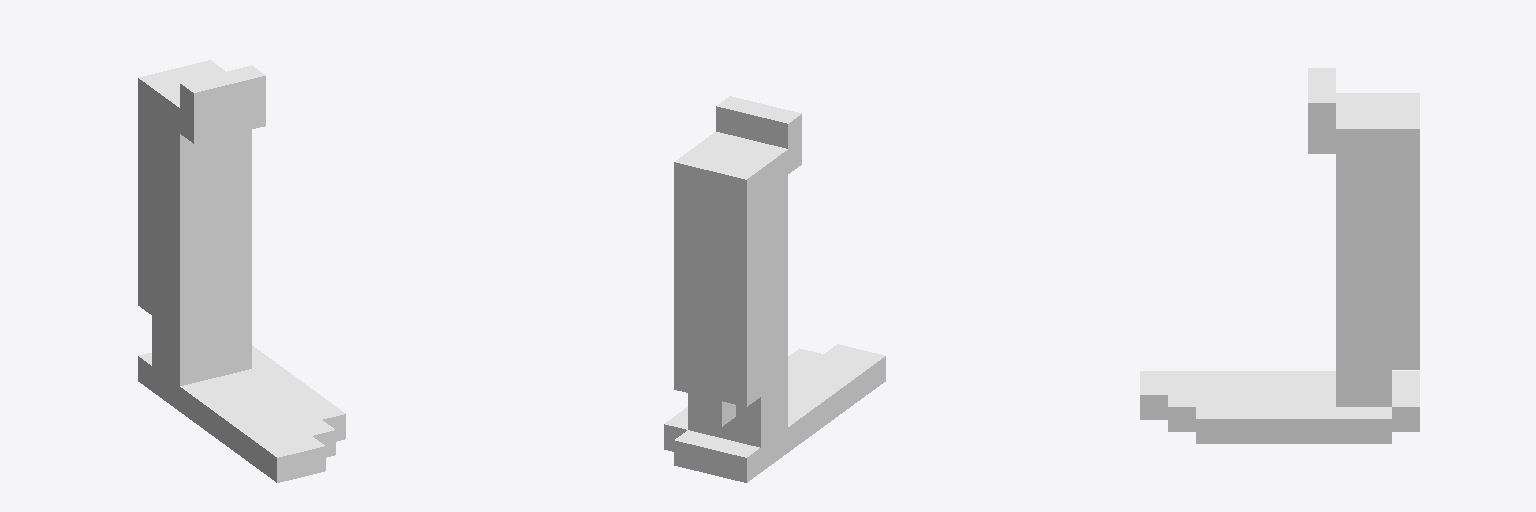
Rendered from a792_BasicGuard_Shin_L.obj.
3 renders of one model, left to right at view 1: azimuth 30°, elevation 25°; view 2: azimuth 150°, elevation 25°; view 3: azimuth 270°, elevation 25°, orthographic.
Size of the model in its own units: 4 by 13 by 10.